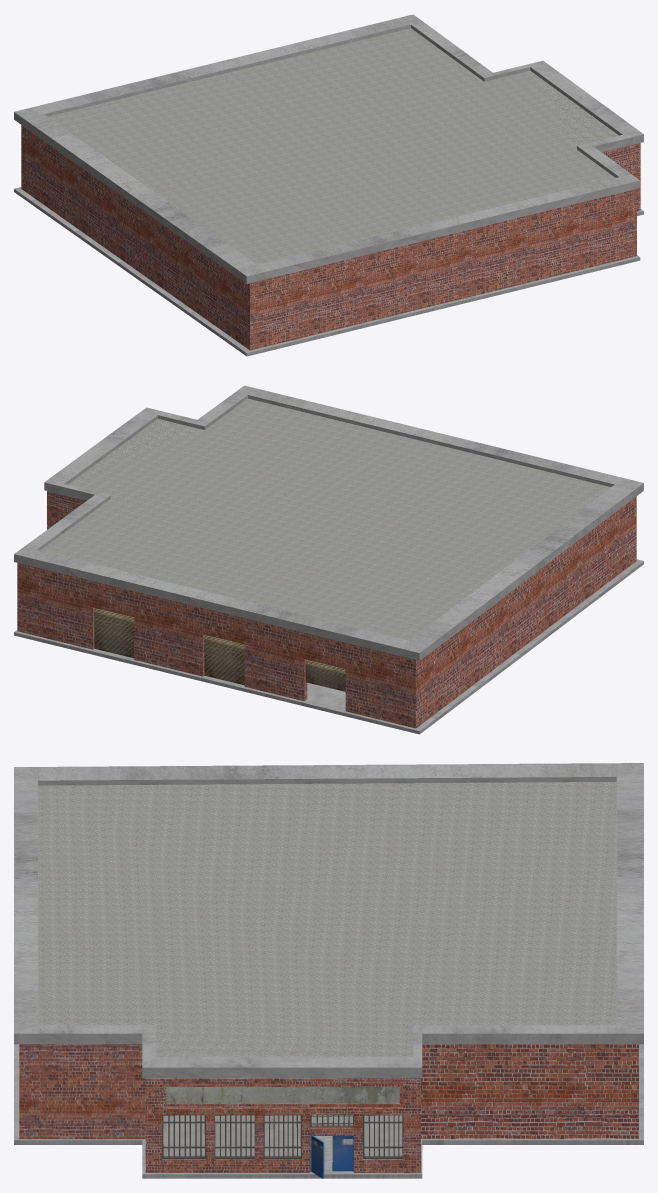
Rendered from almacen_viejo_abandonado.glb.
3 views of the same model, one above another, from view 1: azimuth 30°, elevation 25°; view 2: azimuth 150°, elevation 25°; view 3: azimuth 270°, elevation 25° (orthographic). The views are drawn at different scales.
Parts seen in each view (by area): view 1: Material_005-material, Material_001-material, Material_006-material (×2); view 2: Material_005-material, Material_001-material, Material_006-material (×2), Material_004-material (×3); view 3: Material_005-material, Material_006-material (×2), Material_001-material, Material_007-material, Material-material, Material_002-material (×4), Material_003-material.
Part boxes in pixels (<box>): Material_005-material: <box>48,28,618,264</box>; Material_001-material: <box>21,125,640,350</box>; Material_006-material (×2): <box>14,14,643,356</box>; Material_005-material: <box>40,398,610,640</box>; Material_001-material: <box>17,491,636,728</box>; Material_006-material (×2): <box>14,385,643,734</box>; Material_004-material (×3): <box>94,608,345,691</box>; Material_005-material: <box>38,782,616,1056</box>; Material_006-material (×2): <box>14,763,643,1178</box>; Material_001-material: <box>19,1044,638,1172</box>; Material_007-material: <box>163,1115,402,1156</box>; Material-material: <box>165,1087,399,1103</box>; Material_002-material (×4): <box>162,1115,403,1158</box>; Material_003-material: <box>310,1135,353,1178</box>.
Size of the model in its own units: 170 by 29.14 by 147.
8 materials, 6 textured.
